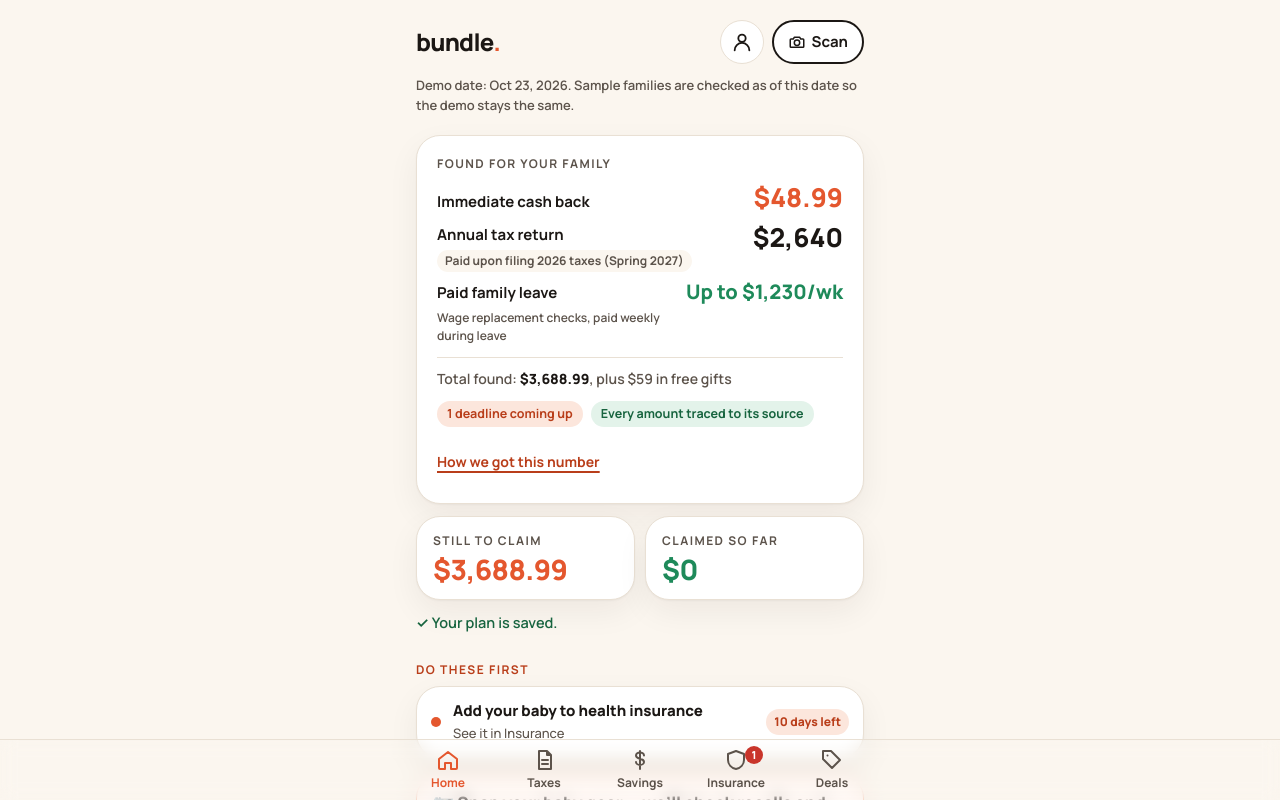
1. the plan saves itself › naming the plan lives on the Account page
This screenshot has width=1280, height=800.
Click the button named "Your account" at [742, 42], box [720, 20, 764, 64]
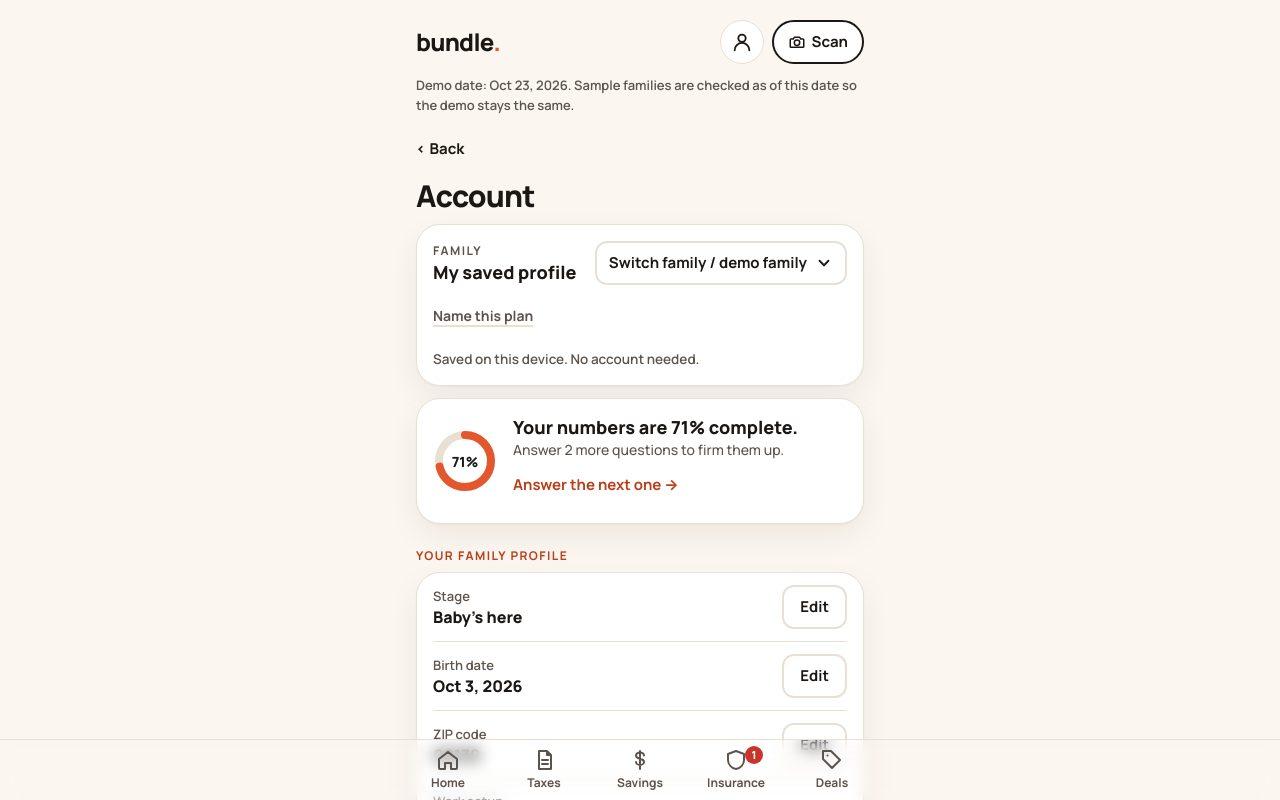
Click the button "Name this plan" at [483, 315], box [433, 293, 533, 337]
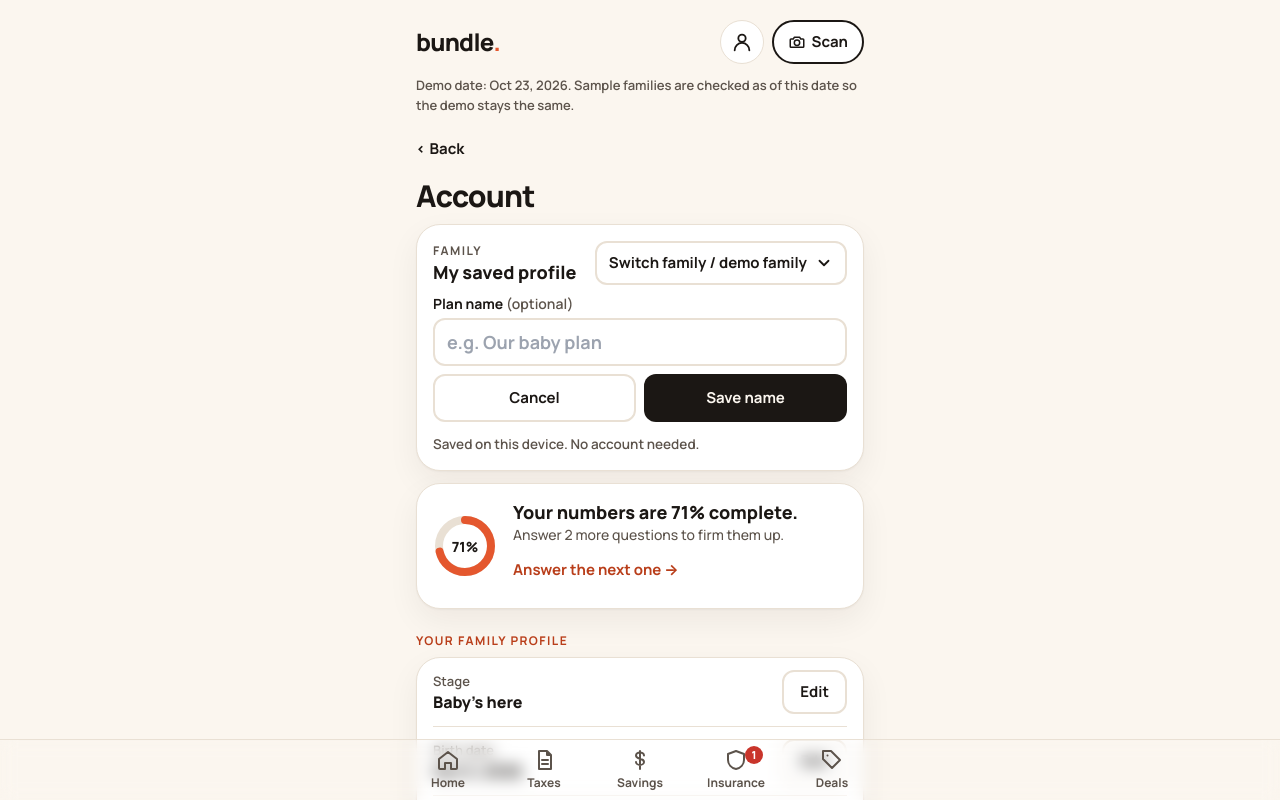
Type "Our baby plan" into the field labelled "Plan name (optional)" at [640, 342], box [433, 318, 847, 366]
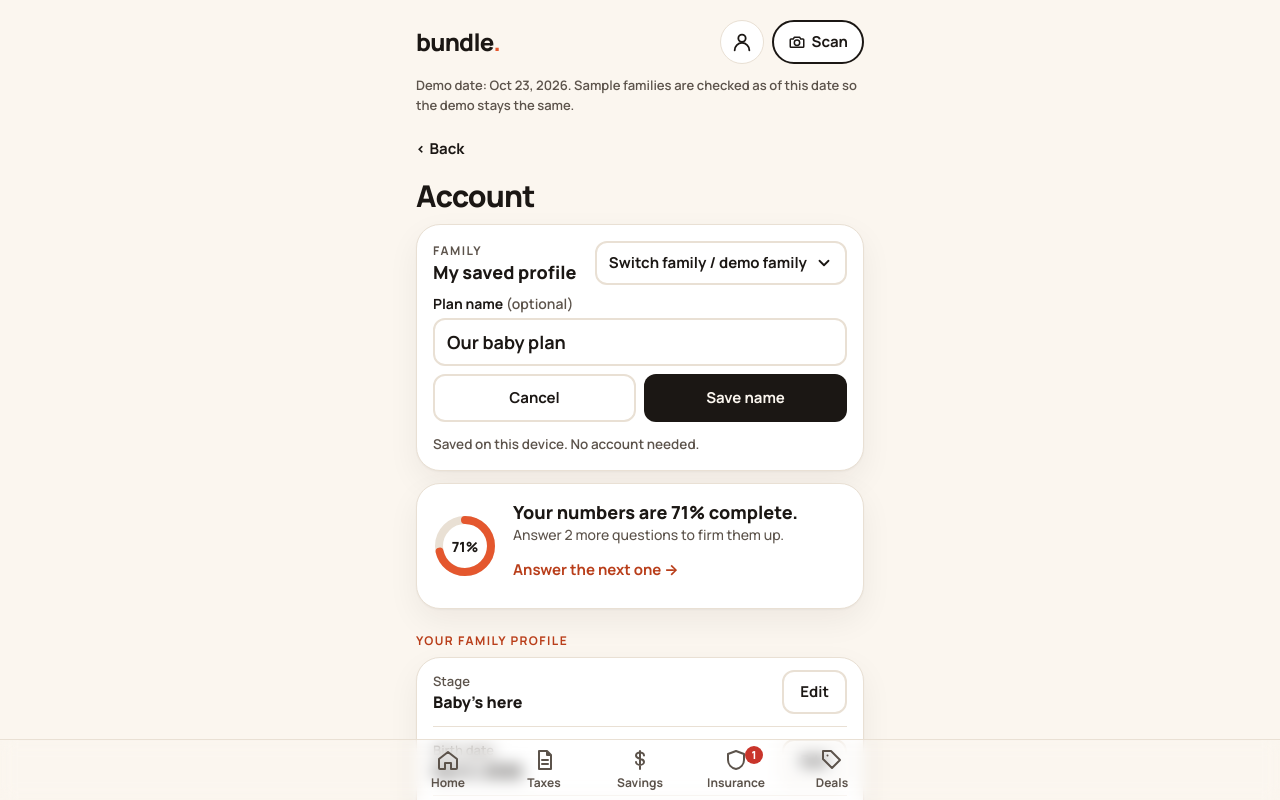
Click the button "Save name" at [746, 398], box [644, 374, 847, 422]
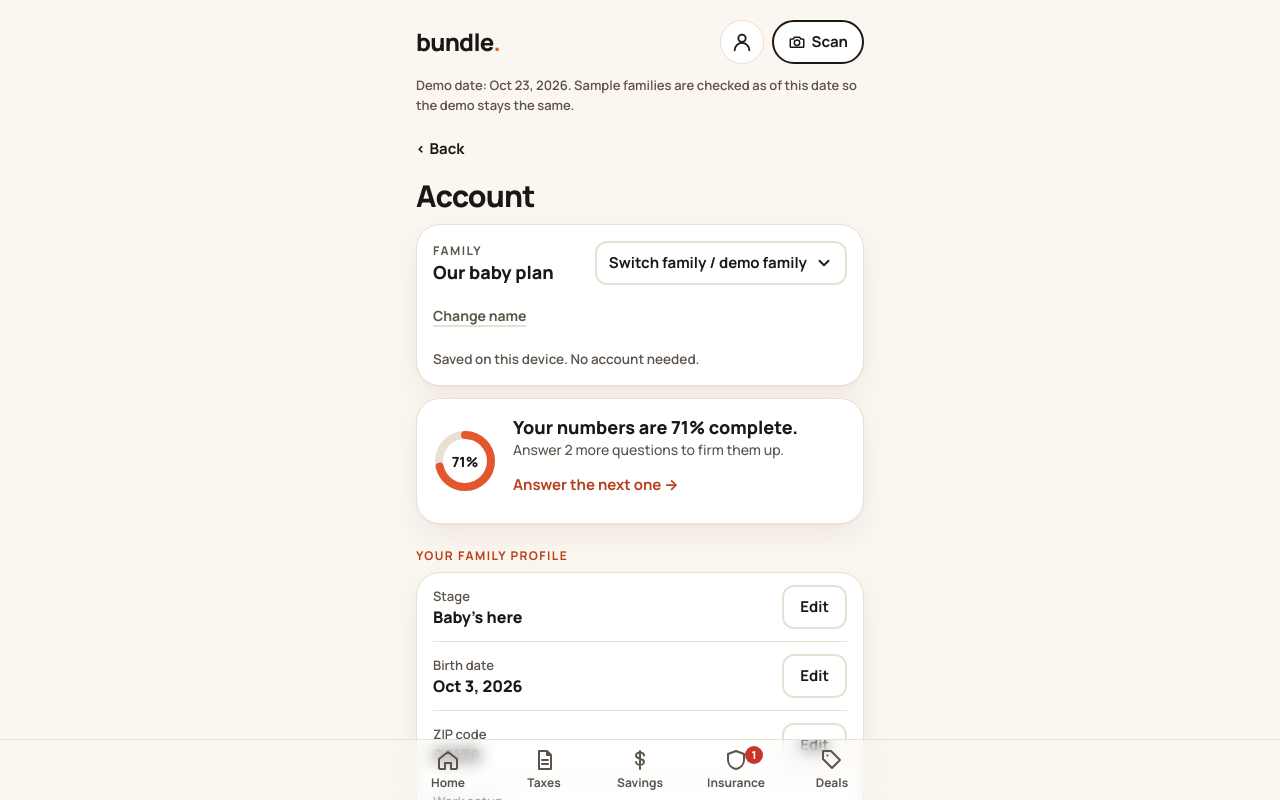
Now the text with test id "family-name" reads "Our baby plan", box [433, 260, 554, 284]
